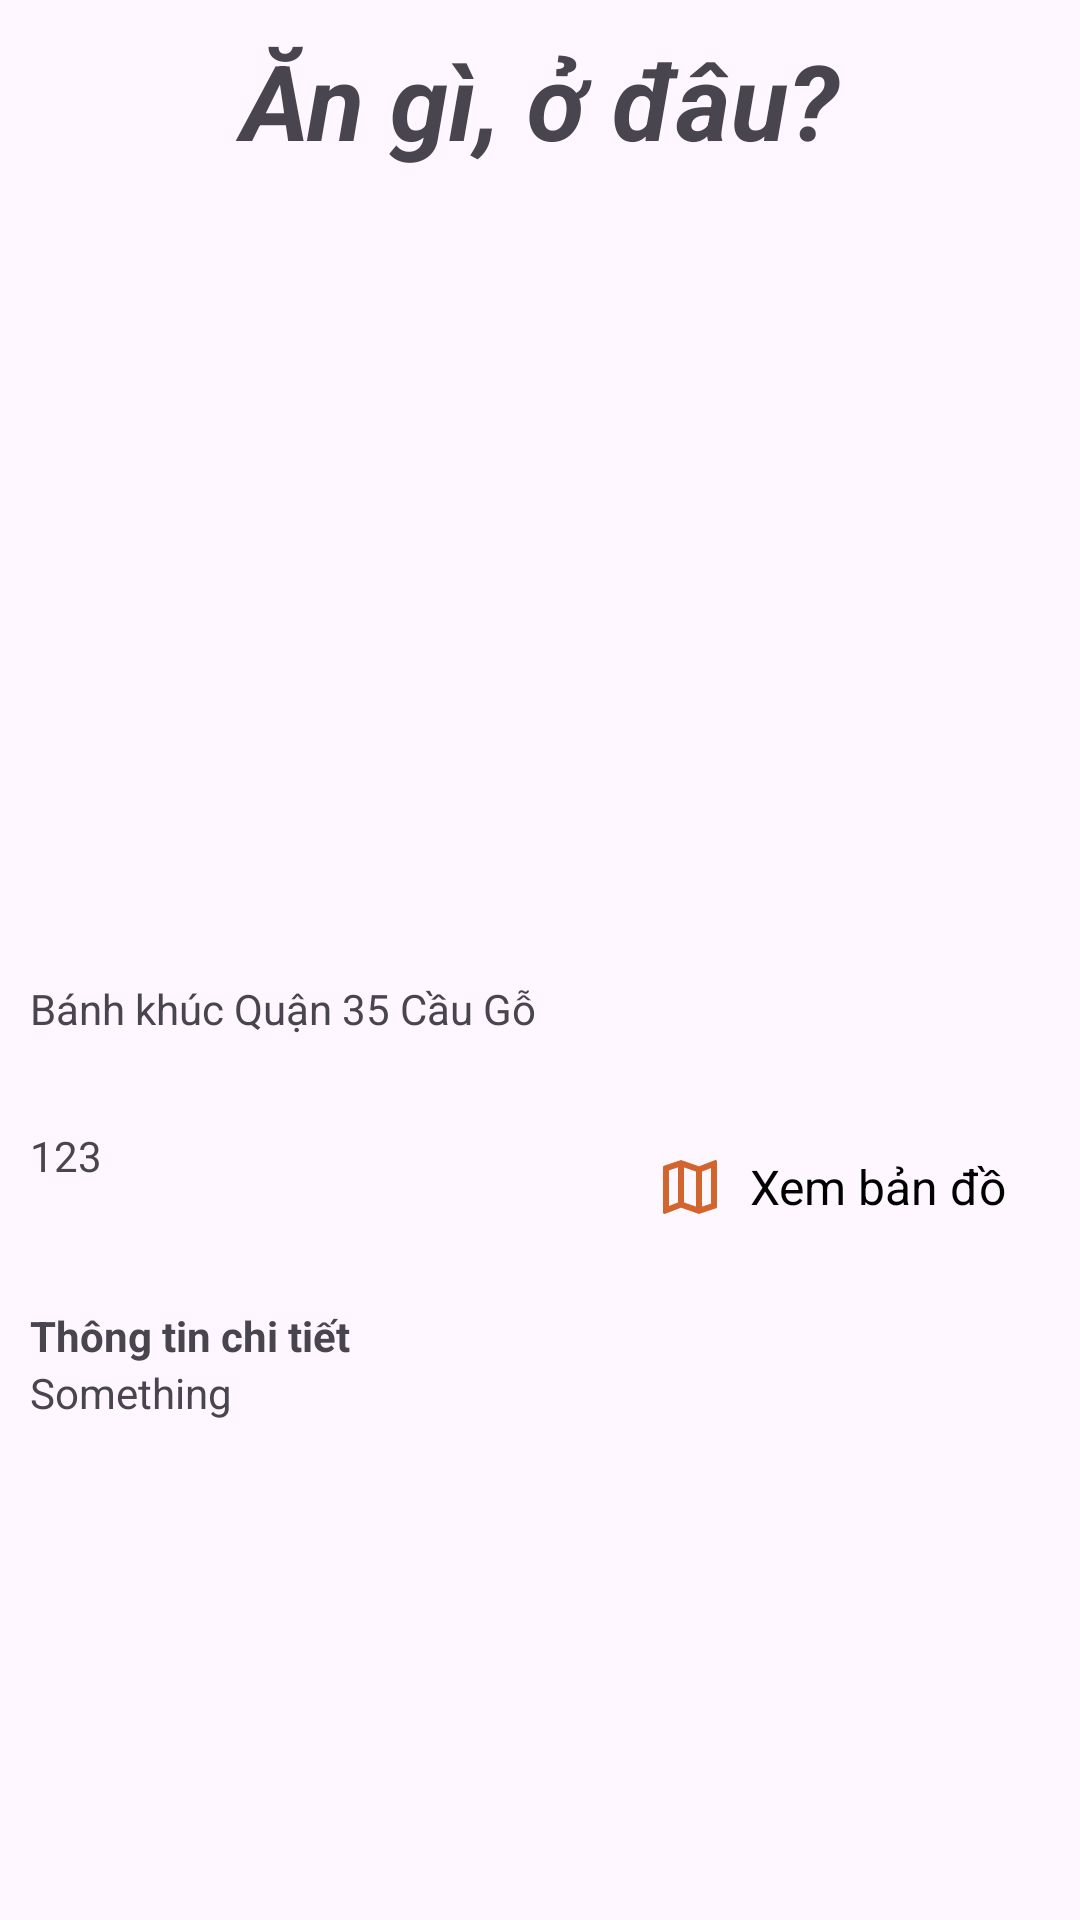

Locate icon controls on the screen. Image size 1080px×1920px, boxes as (x1, y1, x2, y2).
map: (663, 1160, 717, 1214)
